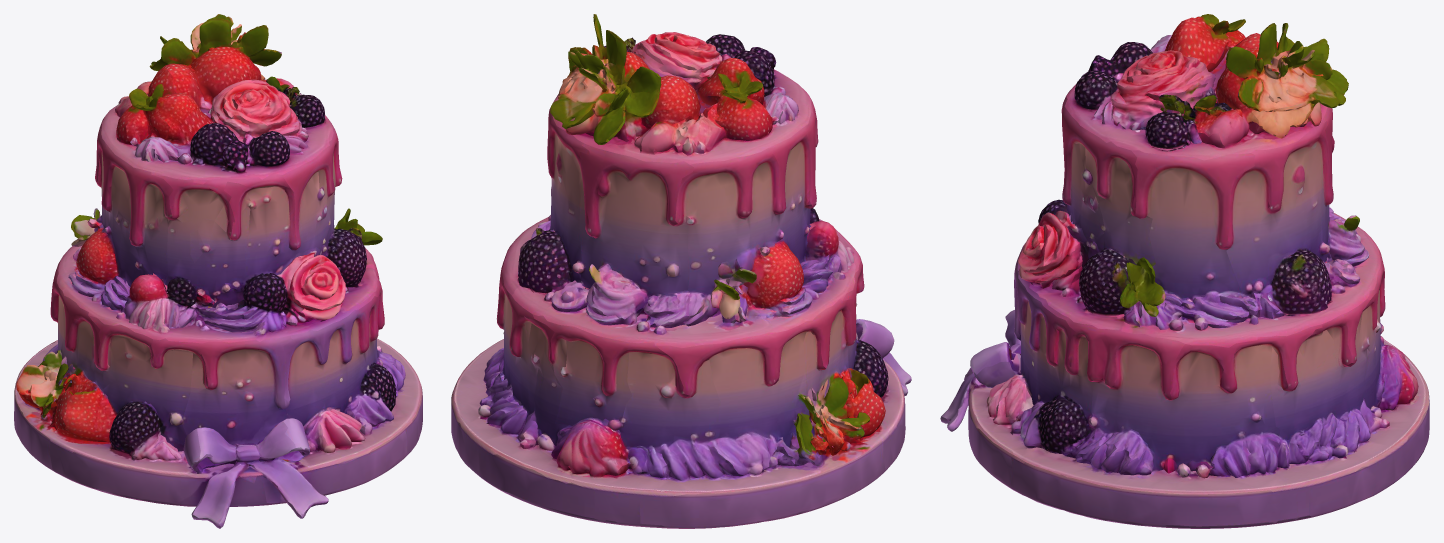
File: modelo-reposteria.glb
The picture shows the model from 3 angles, left to right: view 1: azimuth 30°, elevation 25°; view 2: azimuth 150°, elevation 25°; view 3: azimuth 270°, elevation 25°; orthographic projection. The views are drawn at different scales.
Visible parts, largest first — view 1: textured_mesh.obj; view 2: textured_mesh.obj; view 3: textured_mesh.obj.
Part boxes in pixels (bbox=[...]): textured_mesh.obj: bbox=[14, 14, 422, 528]; textured_mesh.obj: bbox=[451, 14, 911, 528]; textured_mesh.obj: bbox=[940, 14, 1429, 528].
Size of the model in its own units: 1.87 by 1.93 by 1.99.
1 material, 1 textured.
